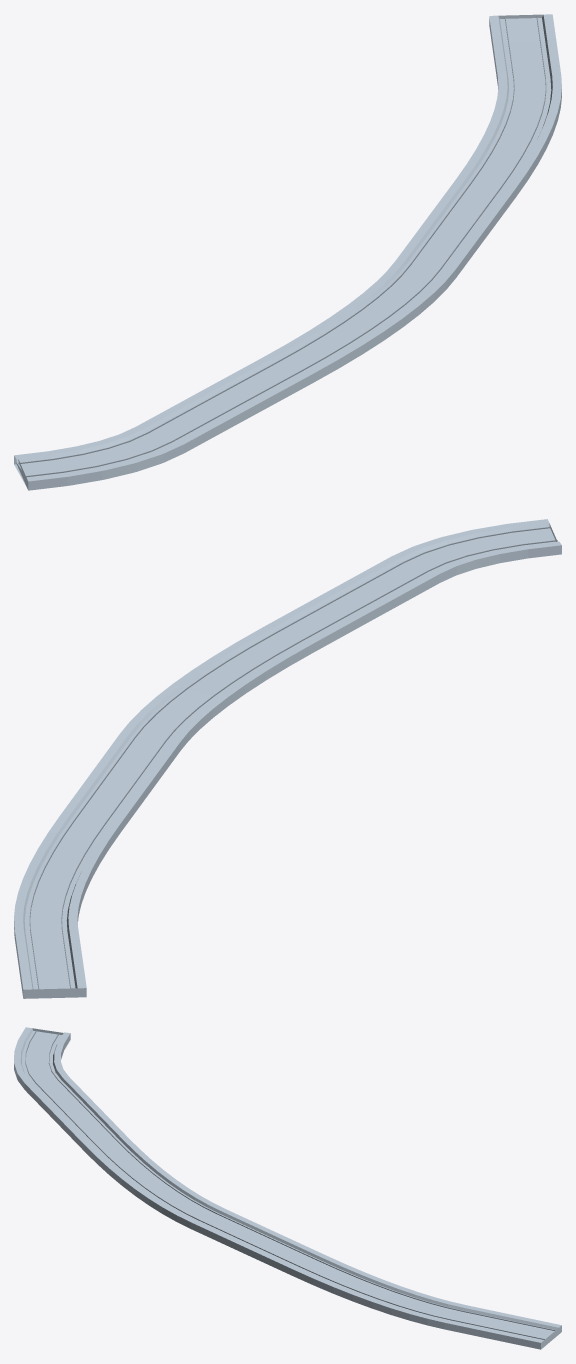
File: Rail_-2_-1.fbx
The picture shows the model from 3 angles, top to bottom: view 1: azimuth 30°, elevation 25°; view 2: azimuth 210°, elevation 25°; view 3: azimuth 270°, elevation 25°; orthographic projection. The views are drawn at different scales.
Visible parts, largest first — view 1: Rail_-2_-1; view 2: Rail_-2_-1; view 3: Rail_-2_-1.
Part boxes in pixels (box(x1,y1,x2,y2)): Rail_-2_-1: box(14, 14, 561, 490); Rail_-2_-1: box(14, 519, 561, 998); Rail_-2_-1: box(14, 1027, 561, 1349).
Size of the model in its own units: 18725 by 228 by 13792.
